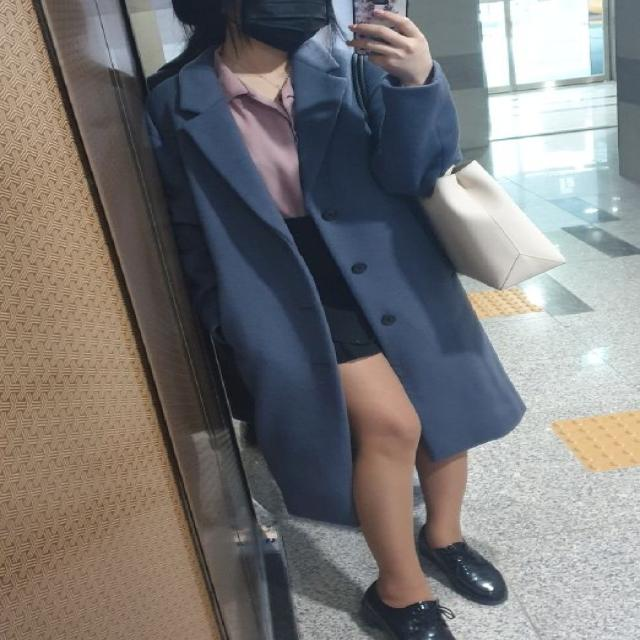coat: (139, 33, 526, 527)
shirt: (214, 46, 334, 218)
skirt: (280, 216, 386, 368)
